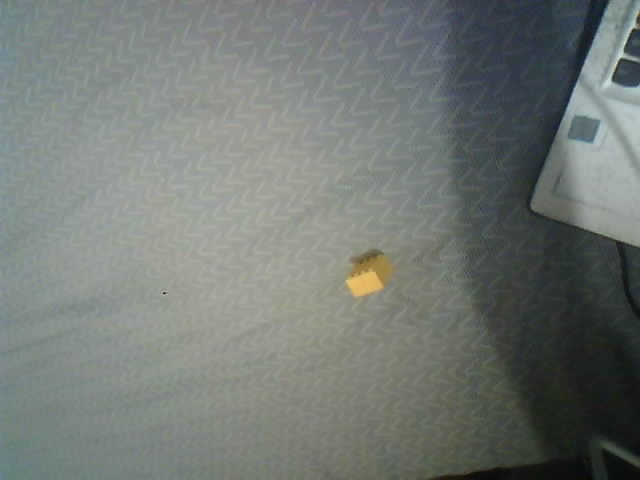lego: (344, 253, 393, 298)
